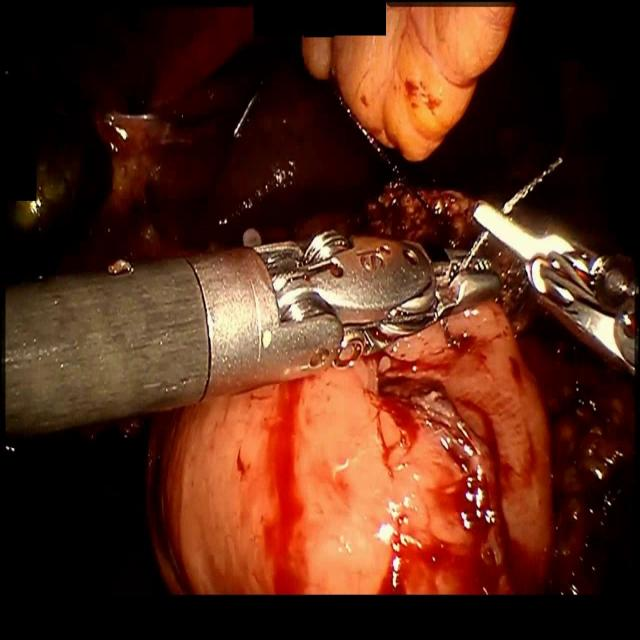surgical-area: (6, 0, 640, 598)
surgical-tool: (2, 221, 504, 443), (472, 200, 640, 382)
